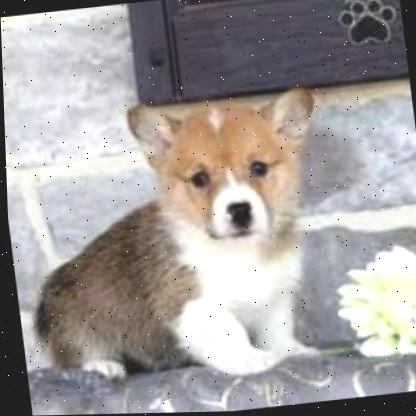dog: (5, 81, 351, 397)
